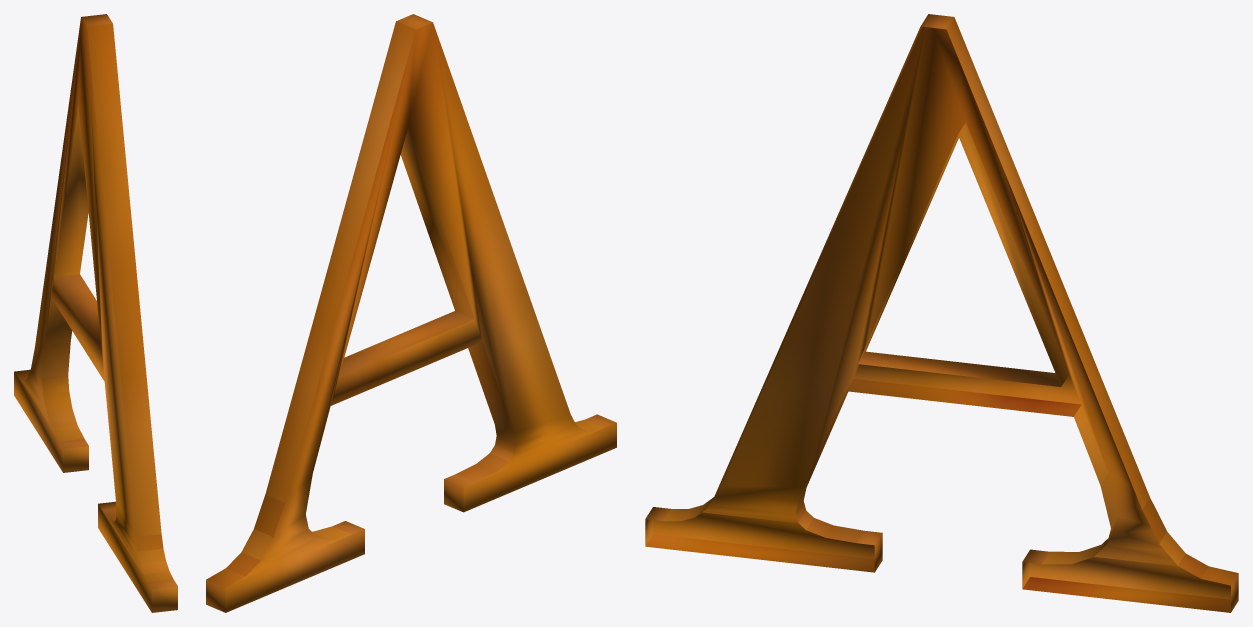
File: original-31.obj
3 renders of one model, left to right at view 1: azimuth 30°, elevation 25°; view 2: azimuth 150°, elevation 25°; view 3: azimuth 270°, elevation 25°, orthographic. The views are drawn at different scales.
Parts seen in each view (by area): view 1: mesh8/mesh8-geometry/material_3/component_9#mesh8-geometry; view 2: mesh8/mesh8-geometry/material_3/component_9#mesh8-geometry; view 3: mesh8/mesh8-geometry/material_3/component_9#mesh8-geometry.
Part boxes in pixels (bbox=[...]): mesh8/mesh8-geometry/material_3/component_9#mesh8-geometry: bbox=[14, 14, 177, 612]; mesh8/mesh8-geometry/material_3/component_9#mesh8-geometry: bbox=[206, 14, 616, 612]; mesh8/mesh8-geometry/material_3/component_9#mesh8-geometry: bbox=[645, 14, 1238, 612].
Bounding box in the file's own units: 0.0093 × 0.0303 × 0.0296.
